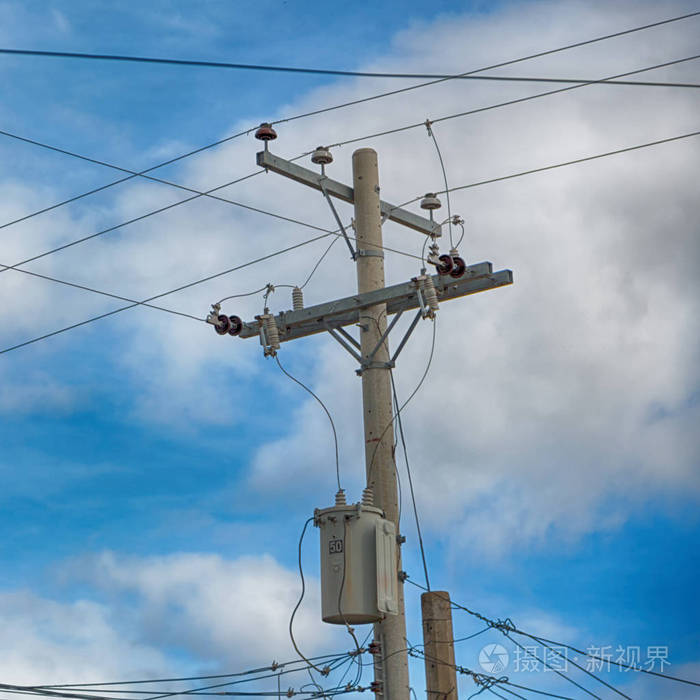insulator: (435, 254, 466, 280), (216, 310, 241, 337)
